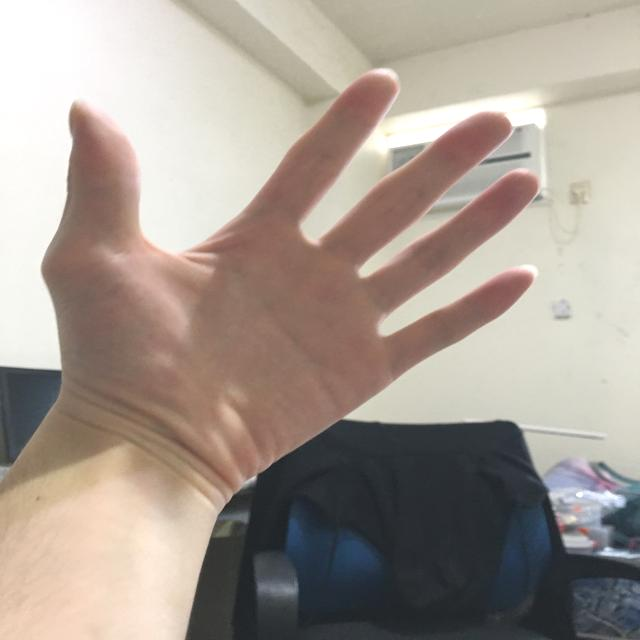no_glove: (28, 56, 561, 534)
